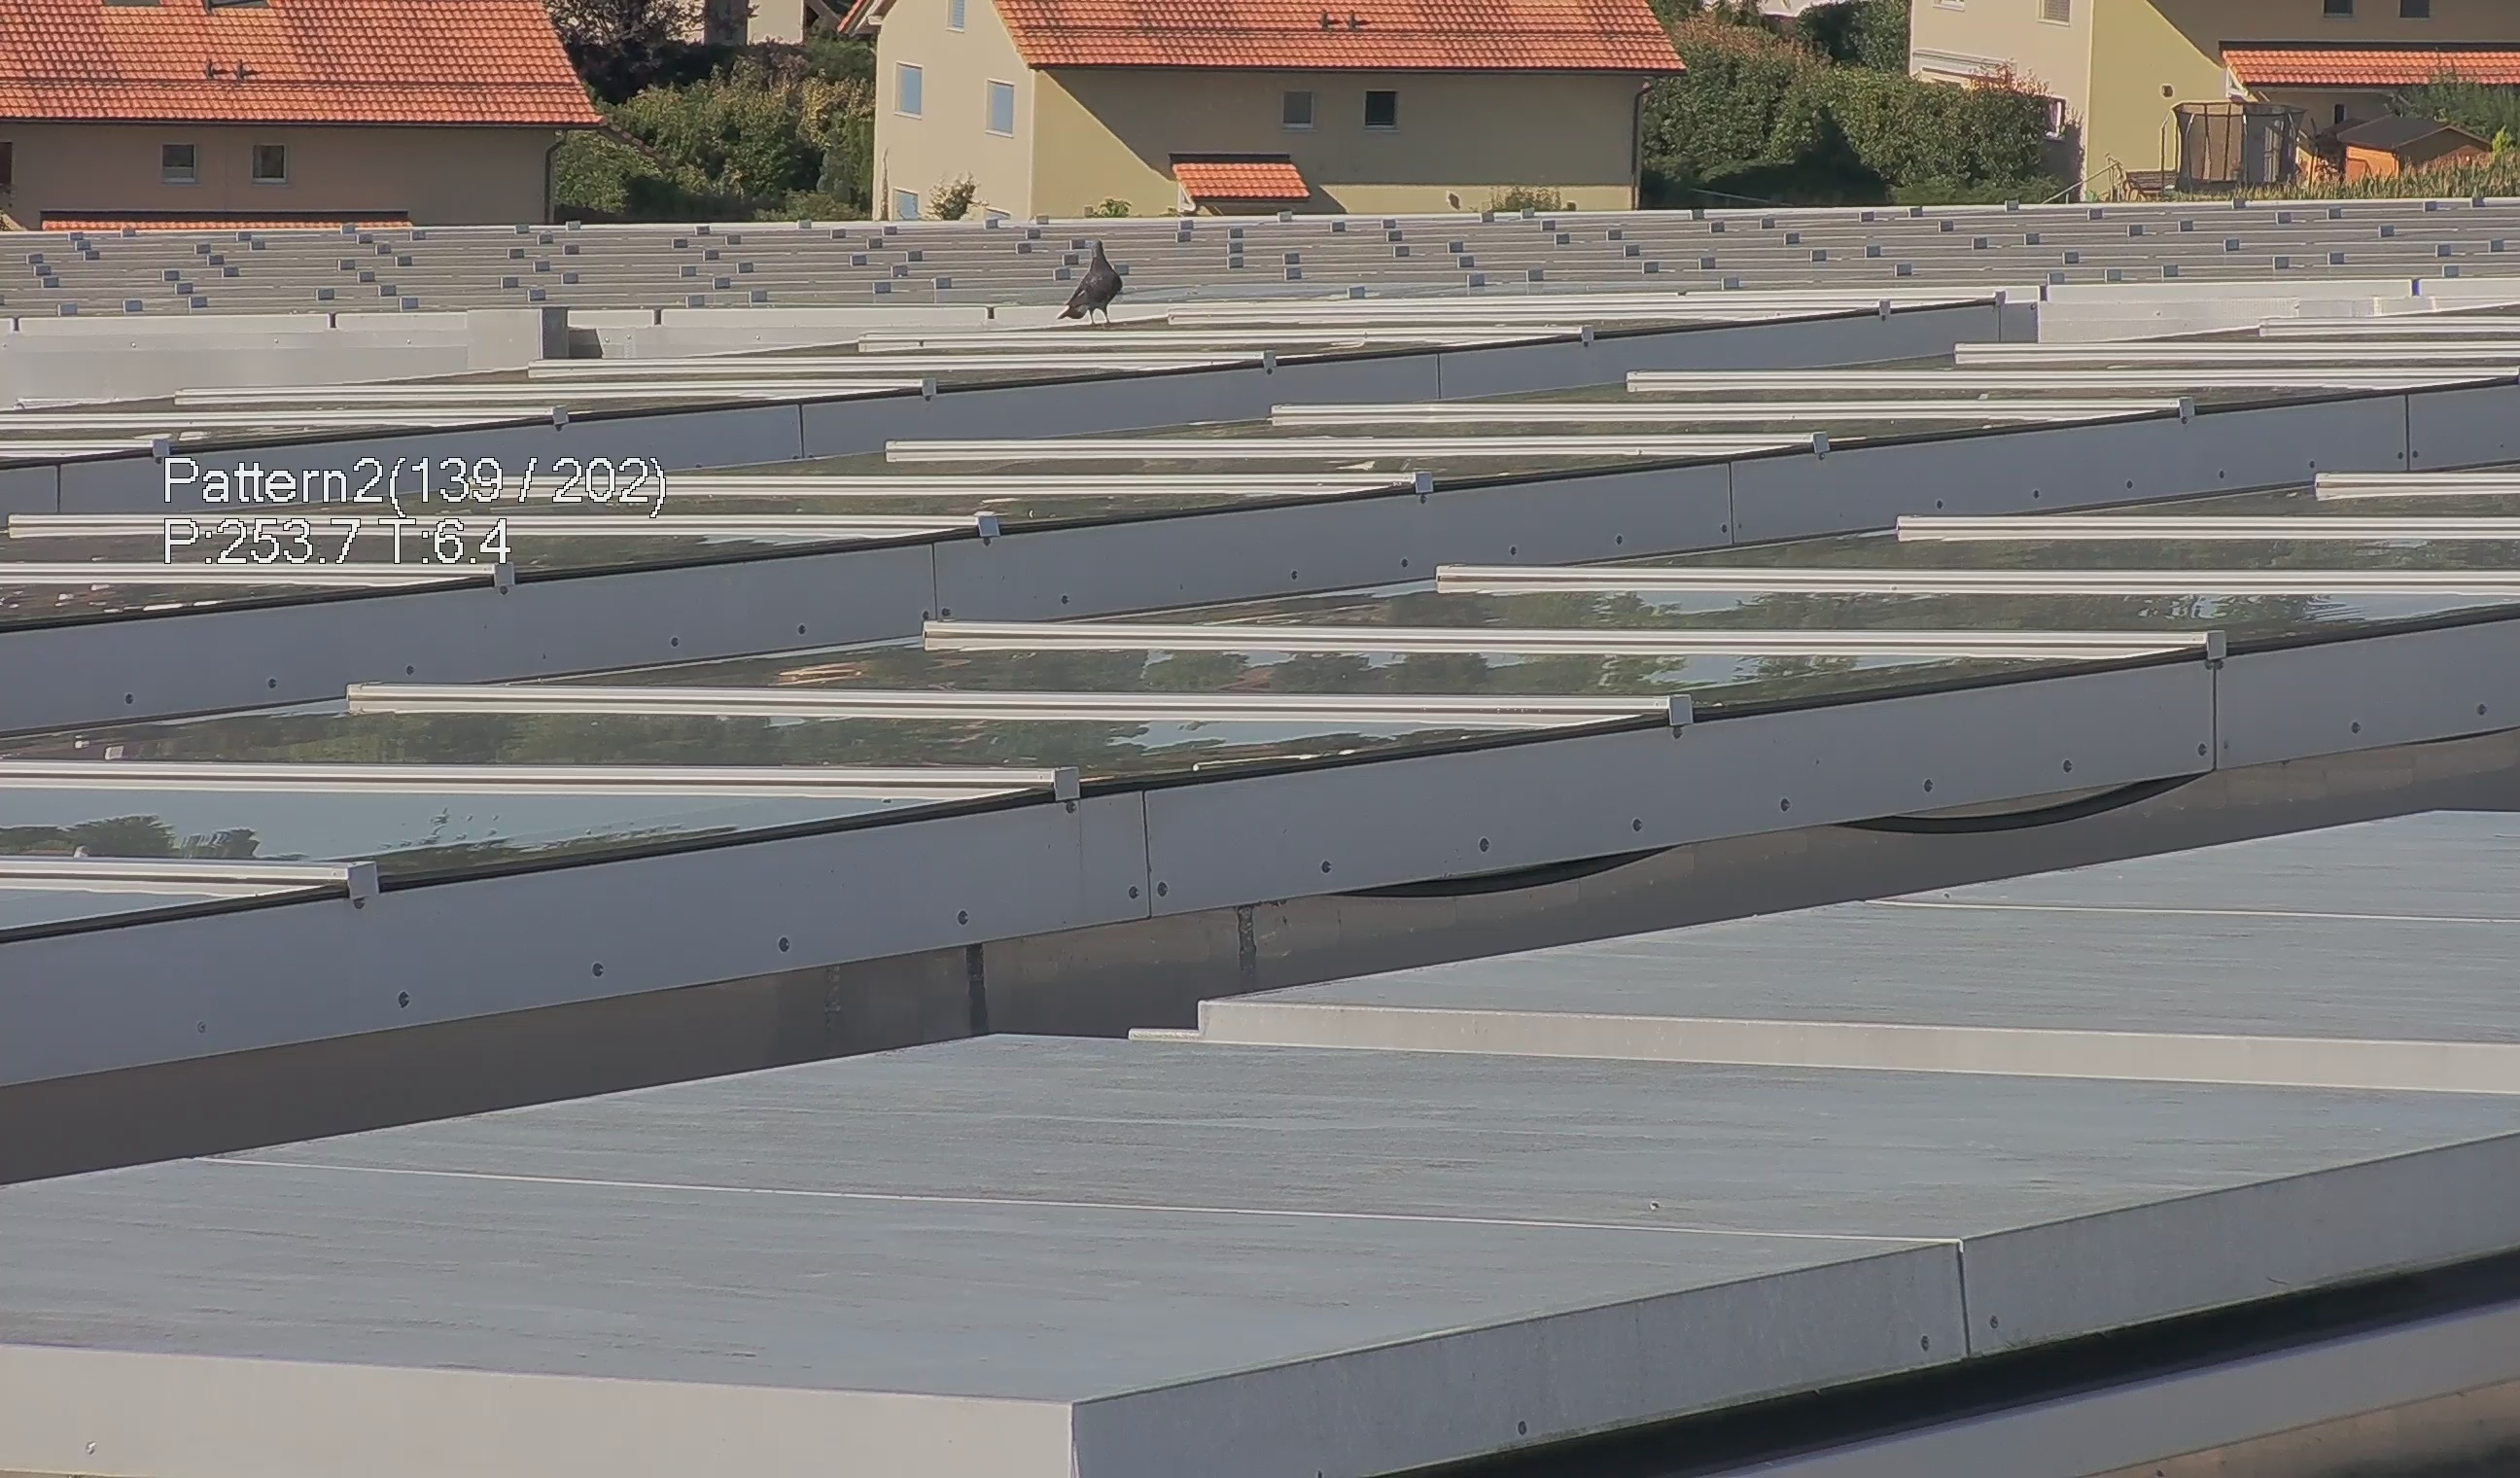Pigeon: (1053, 230, 1124, 320)
